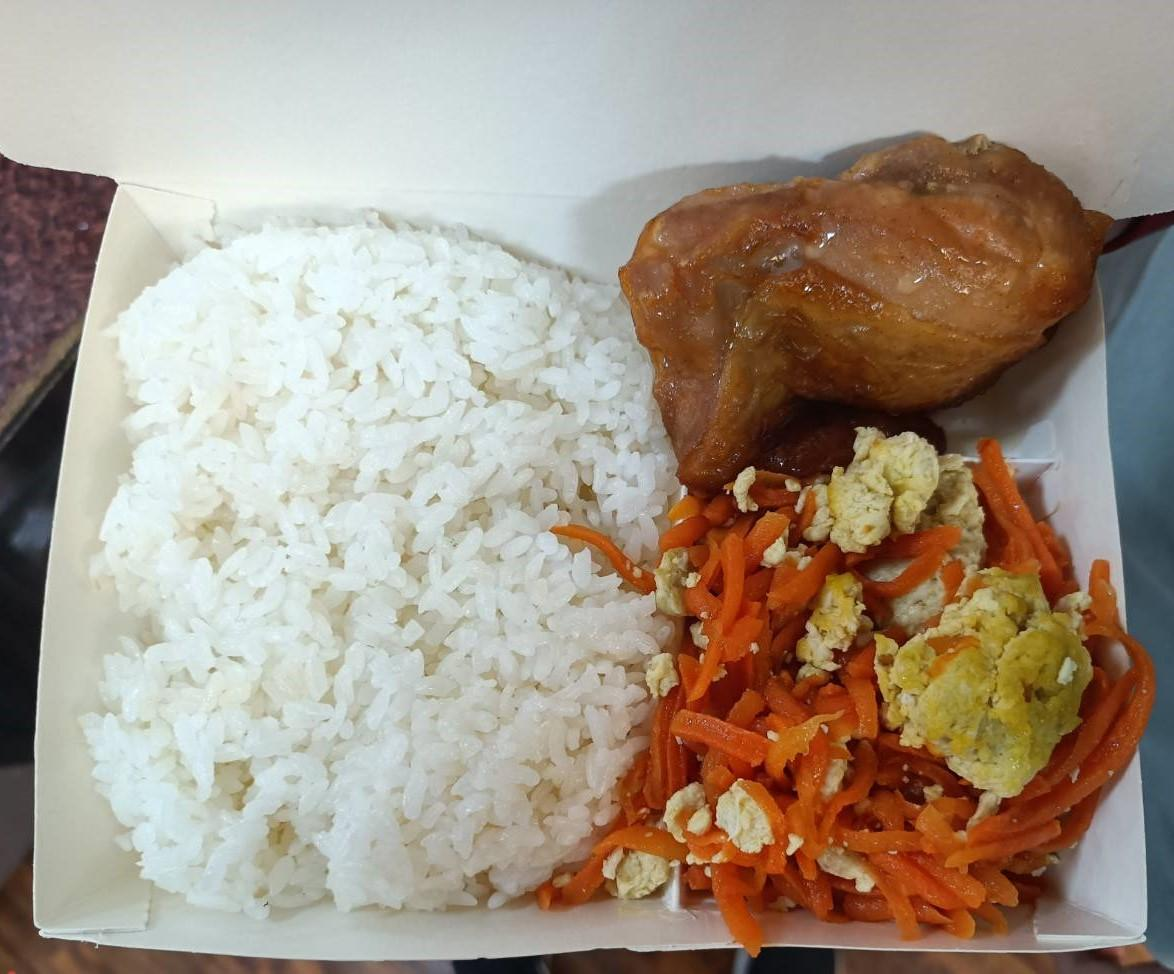big grilled chicken leg: (31, 153, 1165, 969)
big herbal chicken leg: (126, 236, 661, 905)
braised fish fillet: (663, 478, 1135, 935)
braised pork: (623, 138, 1099, 461)
